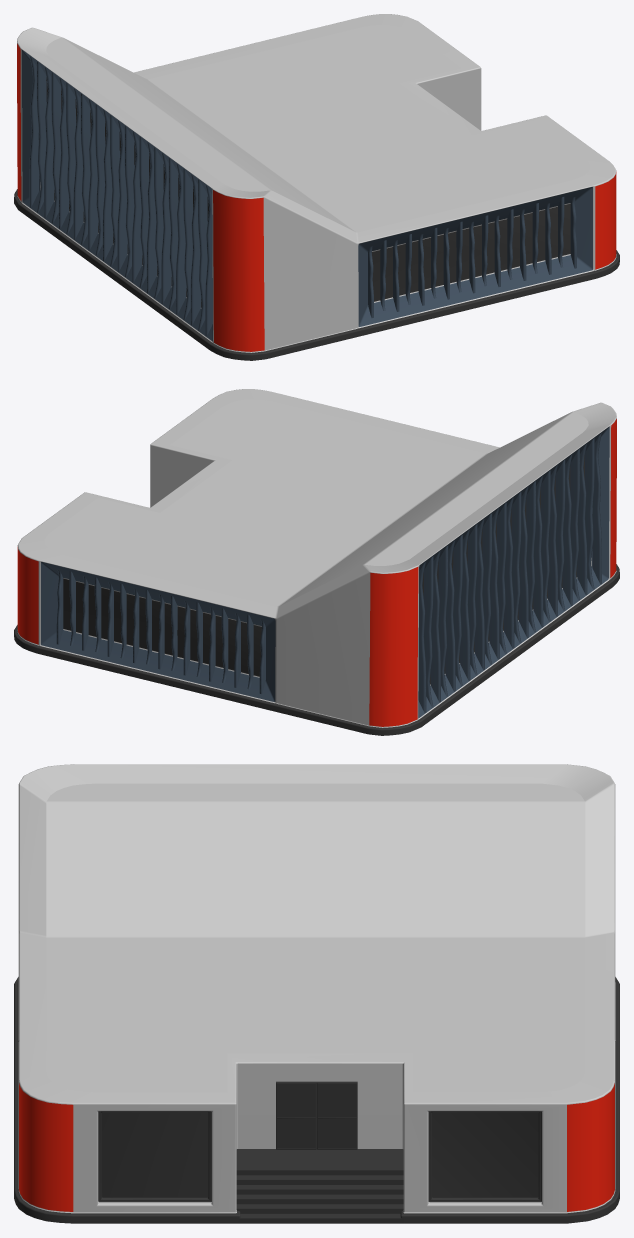
File: SM_Building01_FL_01.fbx
3 views of the same model, one above another, from view 1: azimuth 30°, elevation 25°; view 2: azimuth 150°, elevation 25°; view 3: azimuth 270°, elevation 25° (orthographic). The views are drawn at different scales.
Parts seen in each view (by area): view 1: SM_Building01_FL_01; view 2: SM_Building01_FL_01; view 3: SM_Building01_FL_01.
Part boxes in pixels (x1=…): SM_Building01_FL_01: x1=14, y1=14, x2=619, y2=360; SM_Building01_FL_01: x1=14, y1=389, x2=619, y2=735; SM_Building01_FL_01: x1=14, y1=764, x2=619, y2=1223.
Size of the model in its own units: 2048 by 783 by 2070.
